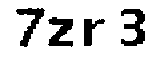3: (120, 6, 147, 49)
7: (12, 6, 44, 49)
r: (81, 15, 107, 51)
z: (47, 16, 76, 49)
